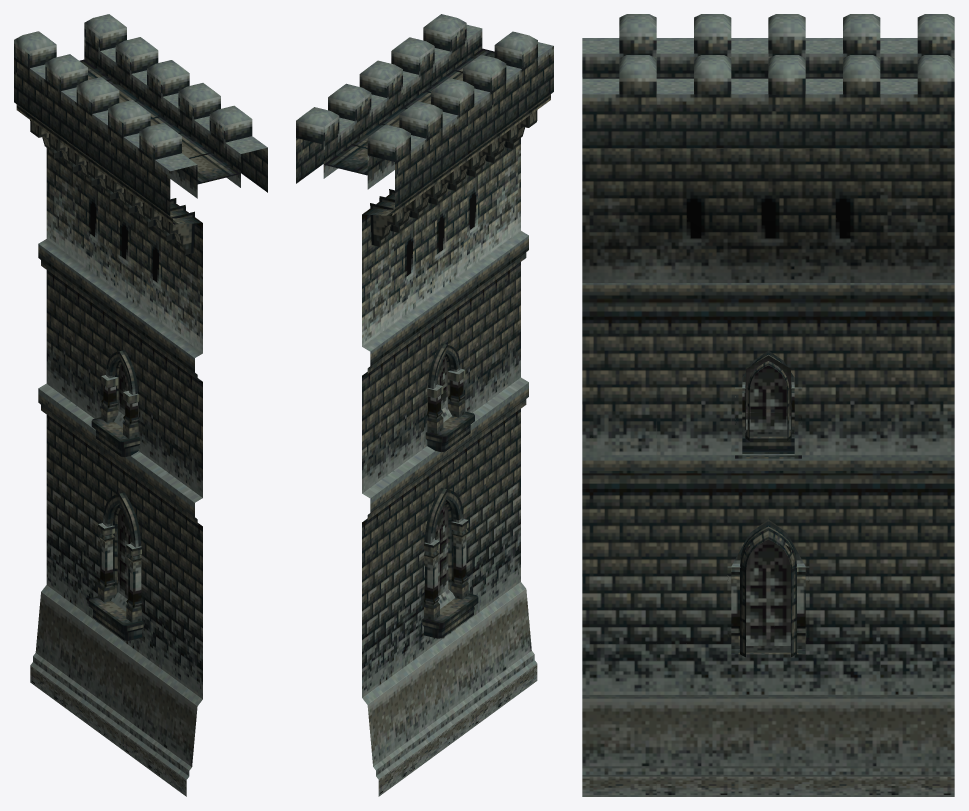
The model's file is EnvBdgMD_Castle_Raimei_A_Wall_A_Window_Loop_5W.FBX.
3 views of the same model, side by side, from view 1: azimuth 30°, elevation 25°; view 2: azimuth 150°, elevation 25°; view 3: azimuth 270°, elevation 25° (orthographic). The views are drawn at different scales.
Parts seen in each view (by area): view 1: EnvBdgMD_Castle_Raimei_A_Wall_A_Window_Loop_5W; view 2: EnvBdgMD_Castle_Raimei_A_Wall_A_Window_Loop_5W; view 3: EnvBdgMD_Castle_Raimei_A_Wall_A_Window_Loop_5W.
Part boxes in pixels (<box>): EnvBdgMD_Castle_Raimei_A_Wall_A_Window_Loop_5W: <box>14,14,267,796</box>; EnvBdgMD_Castle_Raimei_A_Wall_A_Window_Loop_5W: <box>296,14,553,796</box>; EnvBdgMD_Castle_Raimei_A_Wall_A_Window_Loop_5W: <box>582,14,954,796</box>.
Size of the model in its own units: 180 by 1150 by 500.
